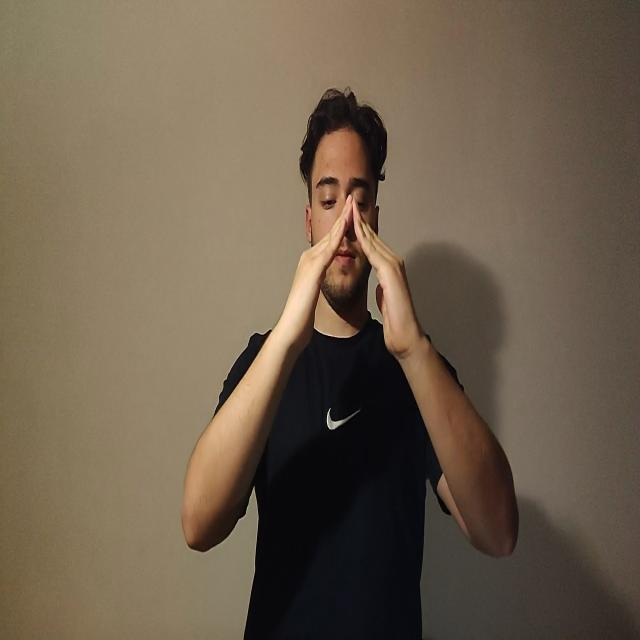house: (275, 198, 420, 362)
